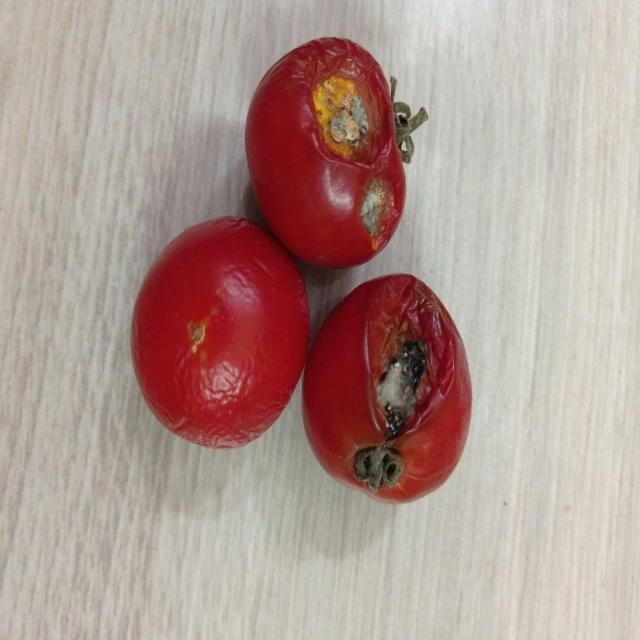Rotten: (300, 272, 472, 501), (246, 36, 407, 268)
